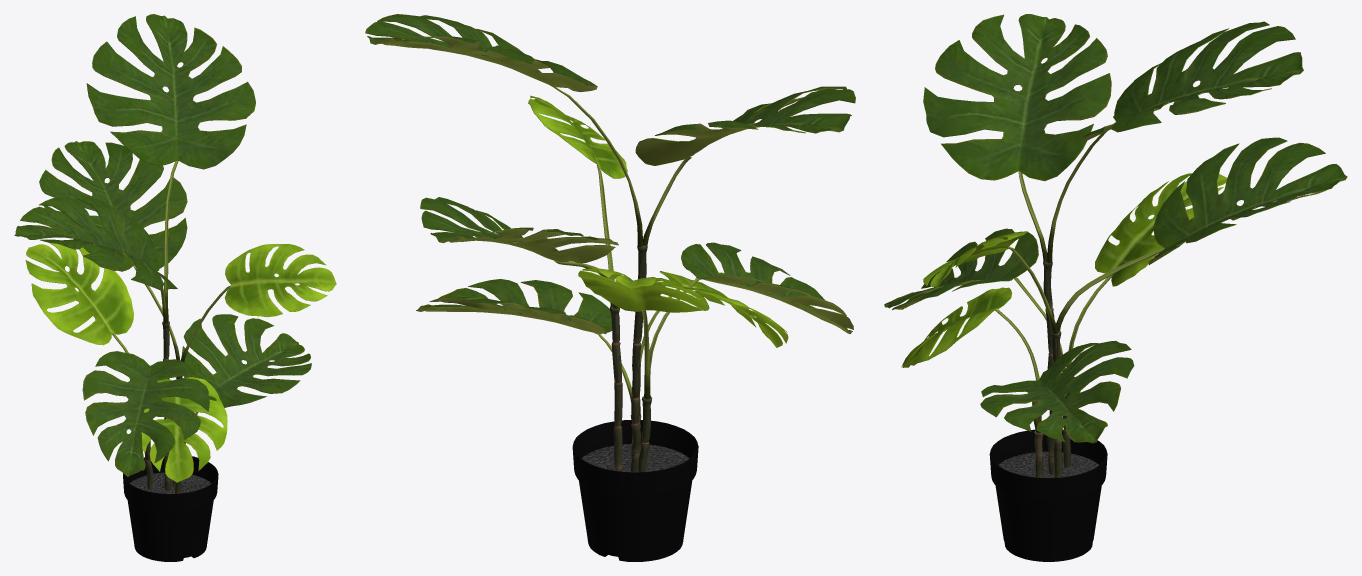
The model's file is LB-PLANT-02.glb.
3 renders of one model, left to right at view 1: azimuth 30°, elevation 25°; view 2: azimuth 150°, elevation 25°; view 3: azimuth 270°, elevation 25°, orthographic. The views are drawn at different scales.
Parts seen in each view (by area): view 1: 40395293_artificial_potted_plant:5, 40395293_artificial_potted_plant:6, 40395293_artificial_potted_plant:1, 40395293_artificial_potted_plant:4, 40395293_artificial_potted_plant:2, 40395293_artificial_potted_plant:3; view 2: 40395293_artificial_potted_plant:5, 40395293_artificial_potted_plant:1, 40395293_artificial_potted_plant:6, 40395293_artificial_potted_plant:3, 40395293_artificial_potted_plant:4, 40395293_artificial_potted_plant:2; view 3: 40395293_artificial_potted_plant:5, 40395293_artificial_potted_plant:1, 40395293_artificial_potted_plant:6, 40395293_artificial_potted_plant:4, 40395293_artificial_potted_plant:3, 40395293_artificial_potted_plant:2.
Part boxes in pixels (x1,y1,x2,y2): 40395293_artificial_potted_plant:5: (14, 14, 311, 476); 40395293_artificial_potted_plant:6: (25, 242, 336, 482); 40395293_artificial_potted_plant:1: (123, 456, 218, 561); 40395293_artificial_potted_plant:4: (111, 160, 230, 443); 40395293_artificial_potted_plant:2: (130, 472, 211, 493); 40395293_artificial_potted_plant:3: (144, 321, 182, 493); 40395293_artificial_potted_plant:5: (365, 14, 855, 334); 40395293_artificial_potted_plant:1: (572, 420, 698, 561); 40395293_artificial_potted_plant:6: (528, 95, 788, 347); 40395293_artificial_potted_plant:3: (609, 245, 652, 472); 40395293_artificial_potted_plant:4: (549, 85, 701, 416); 40395293_artificial_potted_plant:2: (581, 444, 689, 472); 40395293_artificial_potted_plant:5: (884, 14, 1347, 443); 40395293_artificial_potted_plant:1: (989, 429, 1107, 561); 40395293_artificial_potted_plant:6: (901, 173, 1227, 367); 40395293_artificial_potted_plant:4: (995, 131, 1164, 433); 40395293_artificial_potted_plant:3: (1034, 261, 1070, 477); 40395293_artificial_potted_plant:2: (998, 451, 1098, 477).
Size of the model in its own units: 0.6948 by 0.963 by 0.7427.
Materials: 1 (1 with a texture image).
